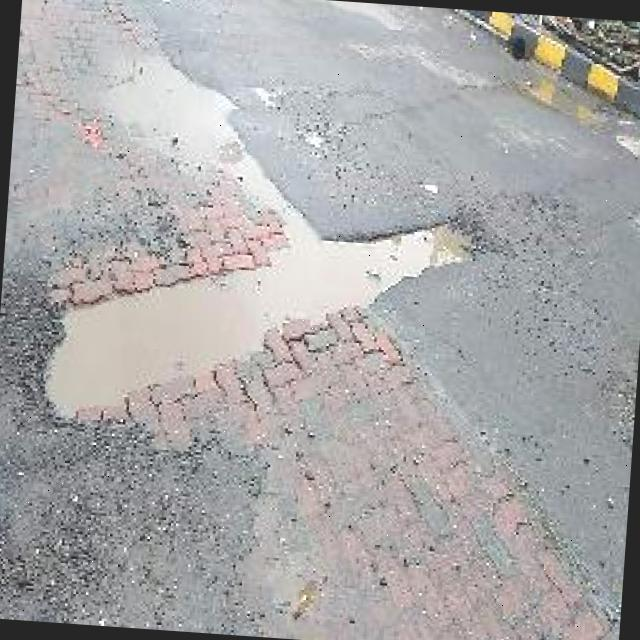waterlogging: (44, 227, 498, 420)
